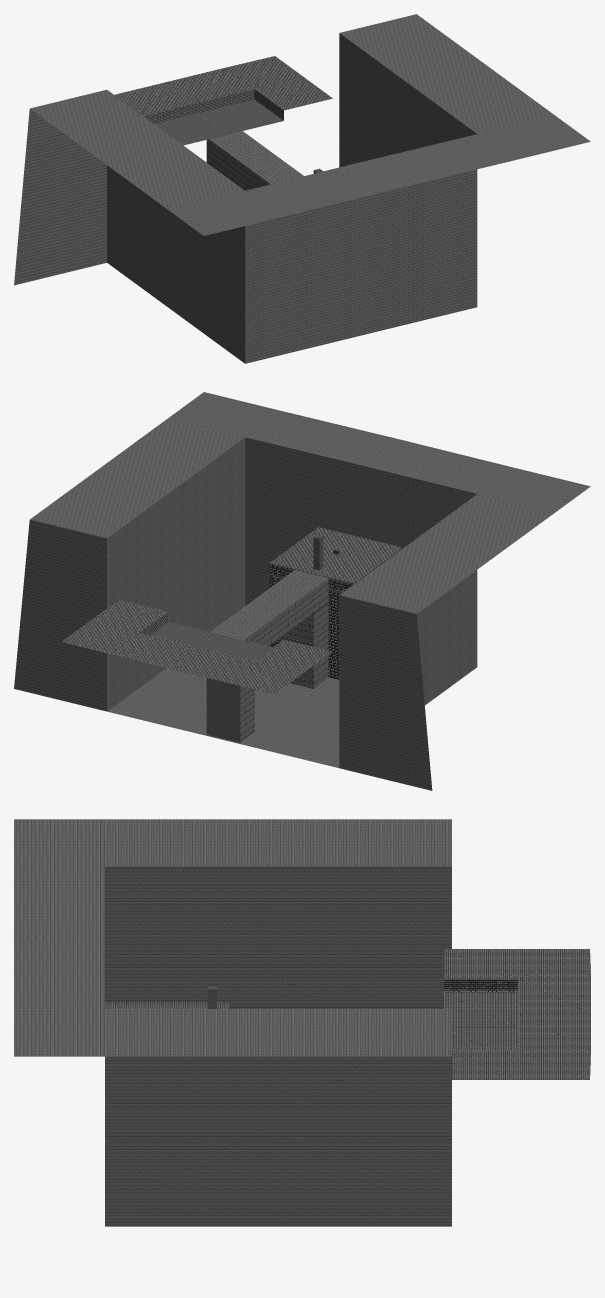
Rendered from pixel_assets.glb.
3 renders of one model, top to bottom at view 1: azimuth 30°, elevation 25°; view 2: azimuth 150°, elevation 25°; view 3: azimuth 270°, elevation 25°, orthographic. The views are drawn at different scales.
Visible parts, largest first — view 1: Terrain1, Ground2, Ground2_Walkable, Bridge_Walkable, Bridge; view 2: Terrain1, Ground2, Bridge, Ground1_Walkable, Bridge_Walkable, Ground2_Walkable, Ground1; view 3: Terrain1, Ground2, Ground2_Walkable, Ground1_Walkable.
Part boxes in pixels (x1=…): Terrain1: x1=14, y1=14, x2=590, y2=363; Ground2: x1=114, y1=56, x2=332, y2=123; Ground2_Walkable: x1=154, y1=99, x2=283, y2=145; Bridge_Walkable: x1=209, y1=131, x2=303, y2=184; Bridge: x1=206, y1=139, x2=270, y2=190; Terrain1: x1=14, y1=392, x2=590, y2=790; Ground2: x1=62, y1=599, x2=332, y2=693; Bridge: x1=206, y1=578, x2=328, y2=742; Ground1_Walkable: x1=270, y1=527, x2=402, y2=583; Bridge_Walkable: x1=210, y1=569, x2=328, y2=639; Ground2_Walkable: x1=150, y1=622, x2=272, y2=661; Ground1: x1=269, y1=548, x2=402, y2=679; Terrain1: x1=14, y1=819, x2=451, y2=1226; Ground2: x1=444, y1=949, x2=590, y2=1079; Ground2_Walkable: x1=444, y1=992, x2=518, y2=1049; Ground1_Walkable: x1=105, y1=1001, x2=228, y2=1008.
Size of the model in its own units: 298 by 118 by 283.
Materials: 3 (3 with a texture image).
